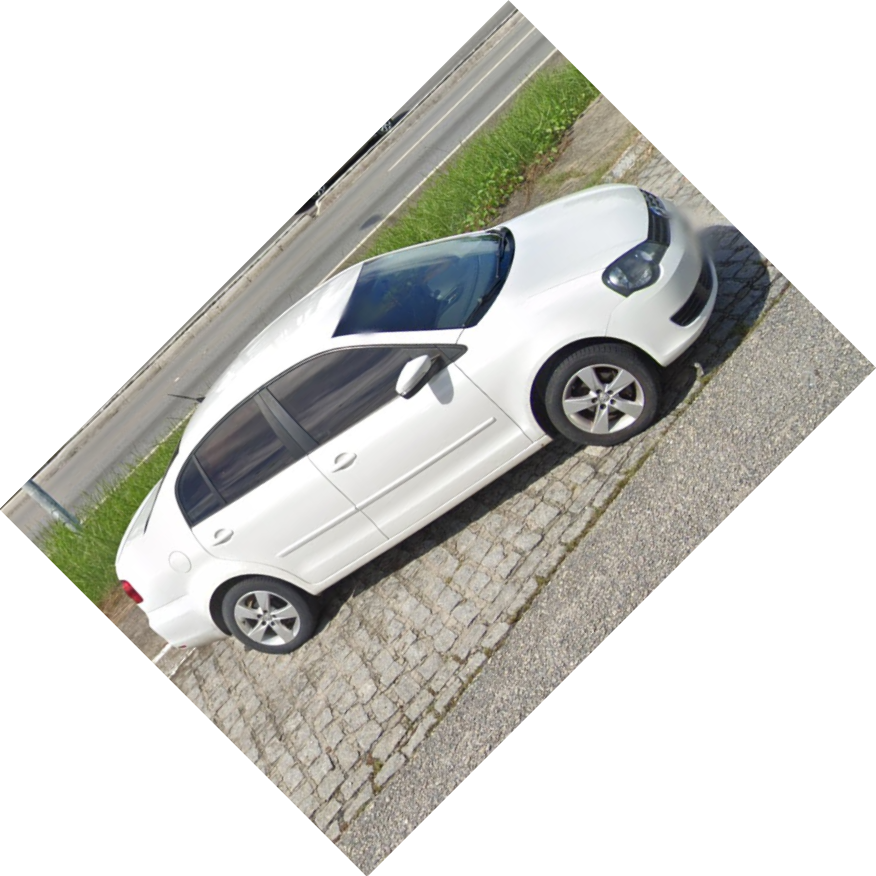car: (108, 177, 722, 660)
